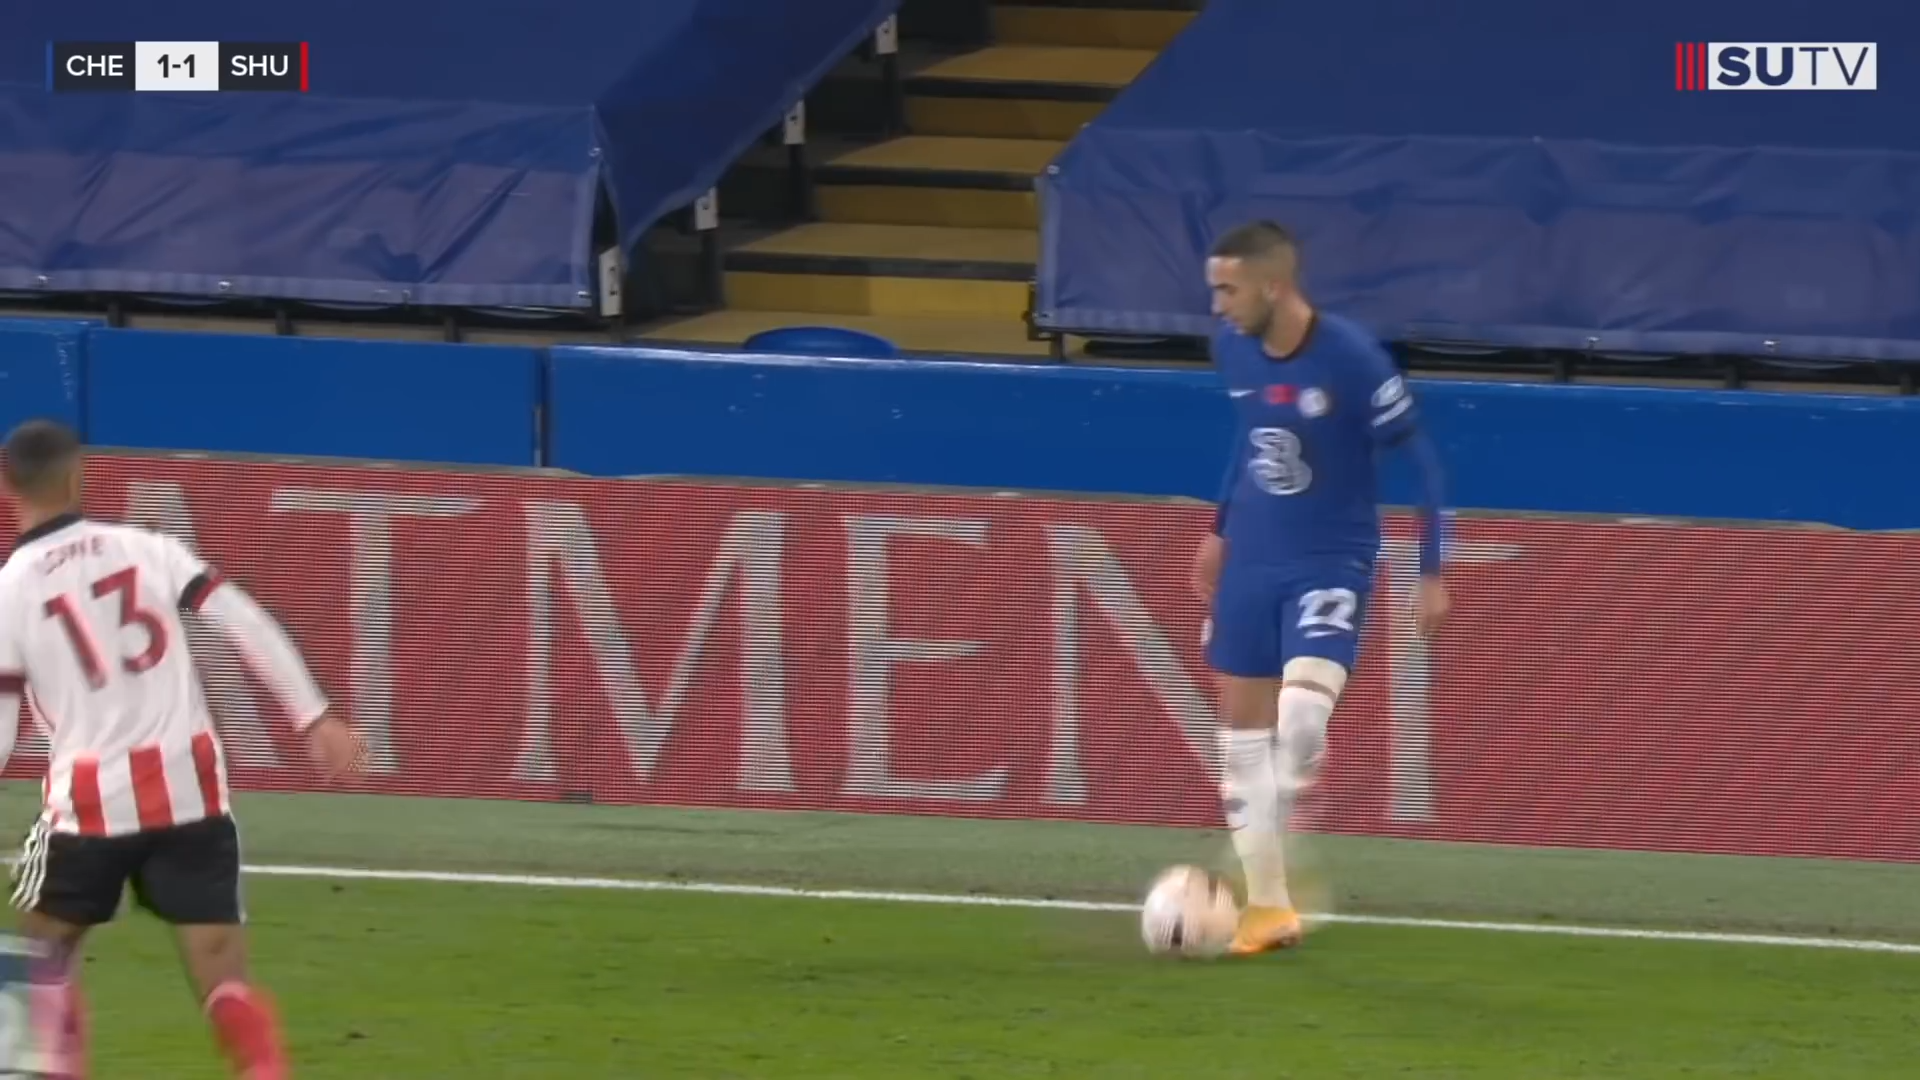Player: (1174, 220, 1466, 941)
